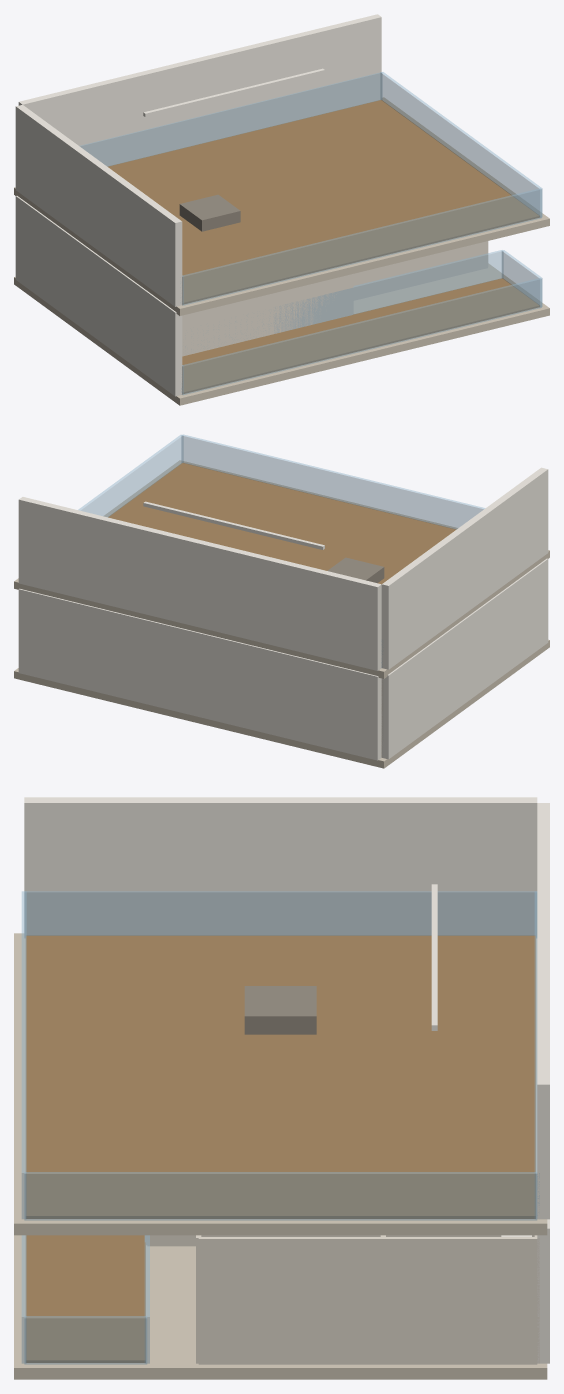
File: penthouse-2.glb
The picture shows the model from 3 angles, top to bottom: view 1: azimuth 30°, elevation 25°; view 2: azimuth 150°, elevation 25°; view 3: azimuth 270°, elevation 25°; orthographic projection. The views are drawn at different scales.
Parts seen in each view (by area): view 1: level-upper, floor-terrace, level-main, slab (×2), floor-balcony; view 2: level-upper, level-main, floor-terrace, slab (×2); view 3: floor-terrace, level-upper, level-main, slab (×2), floor-balcony.
Boxes of the visible parts, x1,y1,x2,y2 form: level-upper: (15, 14, 542, 306); floor-terrace: (107, 100, 539, 304); level-main: (15, 196, 542, 396); slab (×2): (14, 97, 549, 405); floor-balcony: (182, 278, 539, 393); level-upper: (18, 434, 548, 670); level-main: (18, 558, 548, 760); floor-terrace: (108, 463, 456, 584); slab (×2): (14, 460, 549, 768); floor-terrace: (25, 935, 535, 1218); level-upper: (21, 797, 549, 1220); level-main: (21, 1219, 549, 1364); slab (×2): (14, 933, 547, 1379); floor-balcony: (25, 1235, 145, 1362).
Size of the model in its own units: 13.45 by 6.25 by 10.45.
